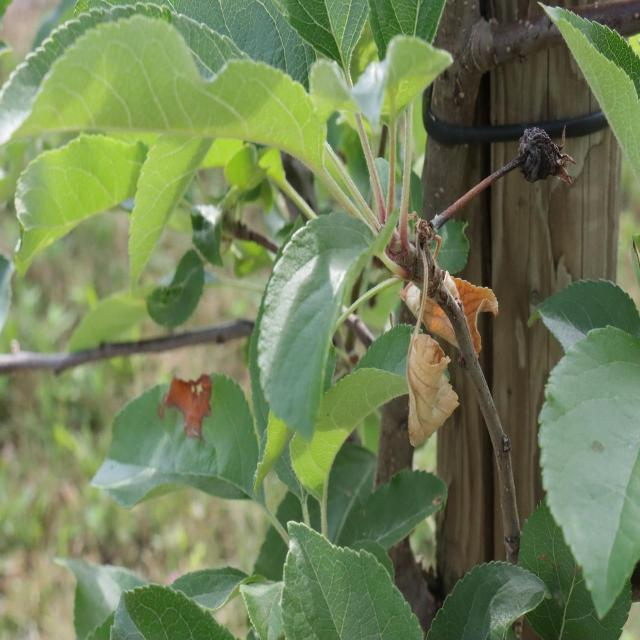-FireBlight-: (404, 267, 513, 446)
